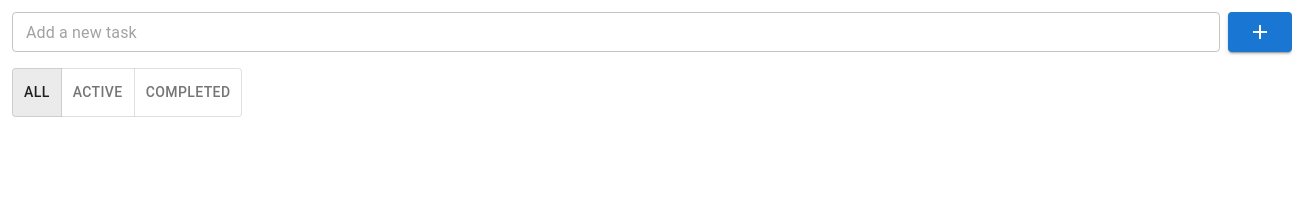
Scenario: TodoWidget › deletes a todo
This screenshot has width=1304, height=198.
In the field with placeholder "Add a new task": (616, 32) [12,12,1220,52], type "Delete Todo"
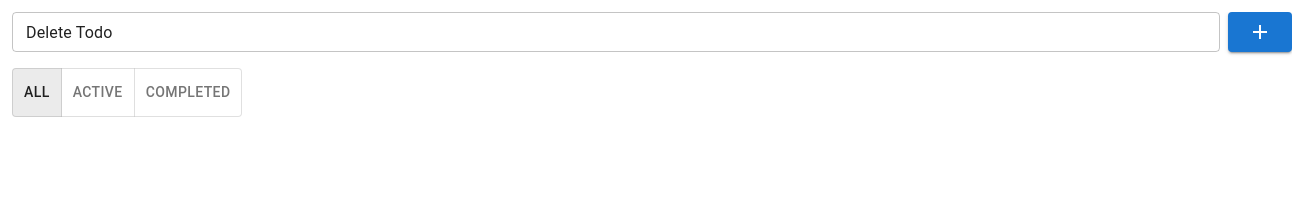
Click the button named "Add todo": (1260, 32) [1228,12,1292,52]
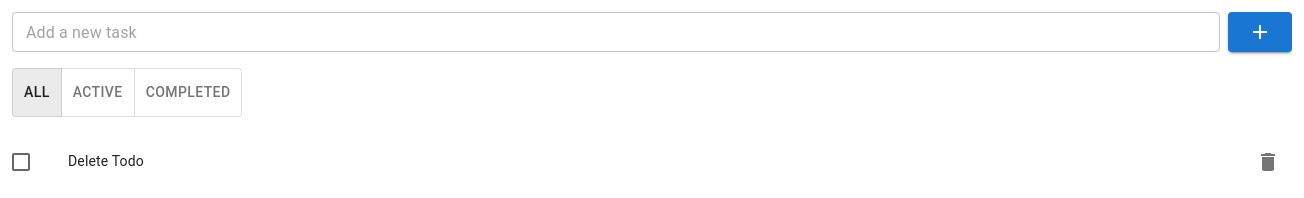
Click the button named "delete": (1268, 162) [1248,142,1288,182]
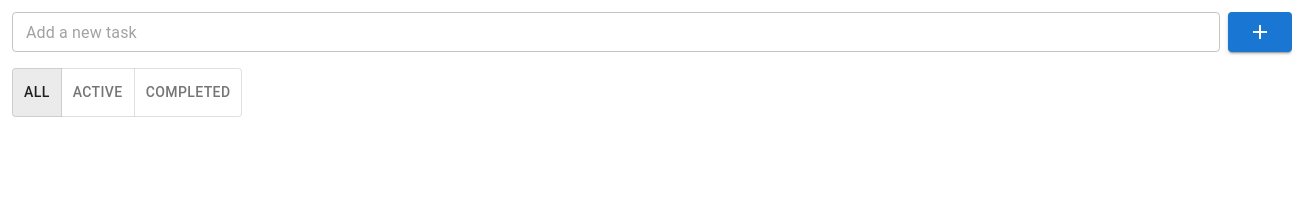
Now the text "Delete Todo" is gone
